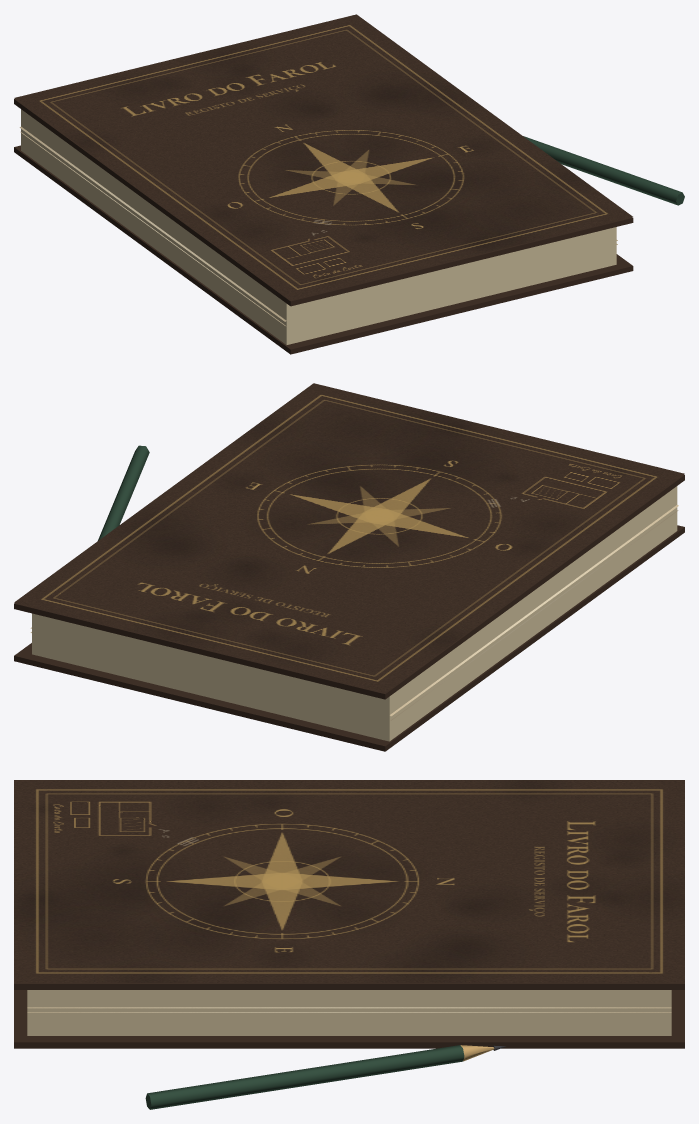
The model's file is livro_do_farol_v2.glb.
3 views of the same model, one above another, from view 1: azimuth 30°, elevation 25°; view 2: azimuth 150°, elevation 25°; view 3: azimuth 270°, elevation 25° (orthographic). The views are drawn at different scales.
Parts seen in each view (by area): view 1: capa_arte, miolo_direito, miolo_esquerdo, capa_tras, capa_frente, lapis_corpo, folha_direita; view 2: capa_arte, miolo_direito, miolo_esquerdo, capa_tras, capa_frente, lapis_corpo, folha_direita; view 3: capa_arte, miolo_direito, miolo_esquerdo, capa_tras, lapis_corpo, capa_frente, folha_direita, folha_esquerda.
Part boxes in pixels (x1,y1,x2,y2): capa_arte: (14, 14, 632, 300); miolo_direito: (21, 129, 616, 344); miolo_esquerdo: (21, 109, 616, 323); capa_tras: (14, 145, 633, 354); capa_frente: (14, 99, 633, 306); lapis_corpo: (523, 136, 684, 205); folha_direita: (19, 126, 617, 321); capa_arte: (14, 383, 684, 692); miolo_direito: (32, 508, 677, 741); miolo_esquerdo: (32, 486, 677, 717); capa_tras: (14, 525, 684, 751); capa_frente: (14, 474, 684, 699); lapis_corpo: (98, 445, 149, 540); folha_direita: (30, 504, 678, 716); capa_arte: (14, 780, 684, 982); miolo_direito: (27, 1009, 671, 1035); miolo_esquerdo: (27, 990, 671, 1009); capa_tras: (14, 990, 684, 1048); lapis_corpo: (145, 1045, 464, 1109); capa_frente: (14, 983, 684, 989); folha_direita: (27, 1007, 671, 1008); folha_esquerda: (27, 1012, 671, 1012).
Bounding box in the file's own units: 0.2843 × 0.0326 × 0.302.
8 materials, 3 textured.
